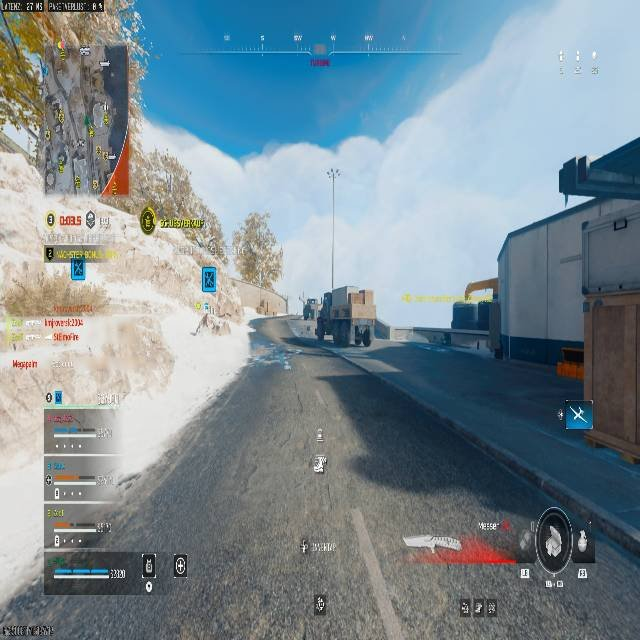player: (303, 298, 314, 320)
